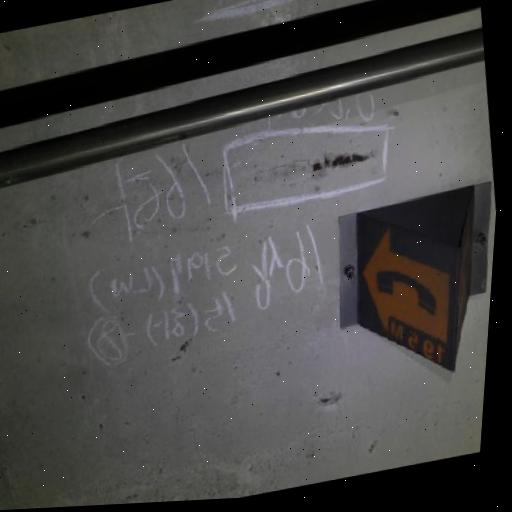exposed_rebar: (314, 154, 368, 171)
